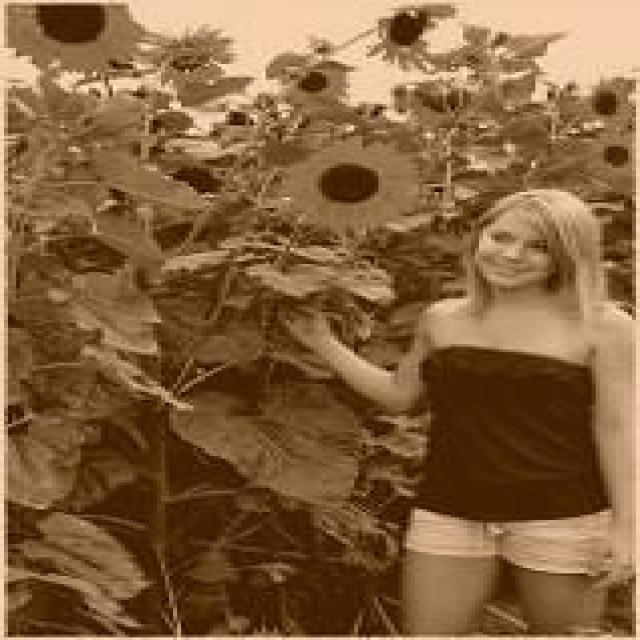sunflower: (278, 140, 414, 225), (6, 1, 143, 76), (369, 4, 441, 73), (151, 25, 236, 81), (581, 129, 638, 187), (280, 60, 350, 107), (580, 79, 633, 126)
